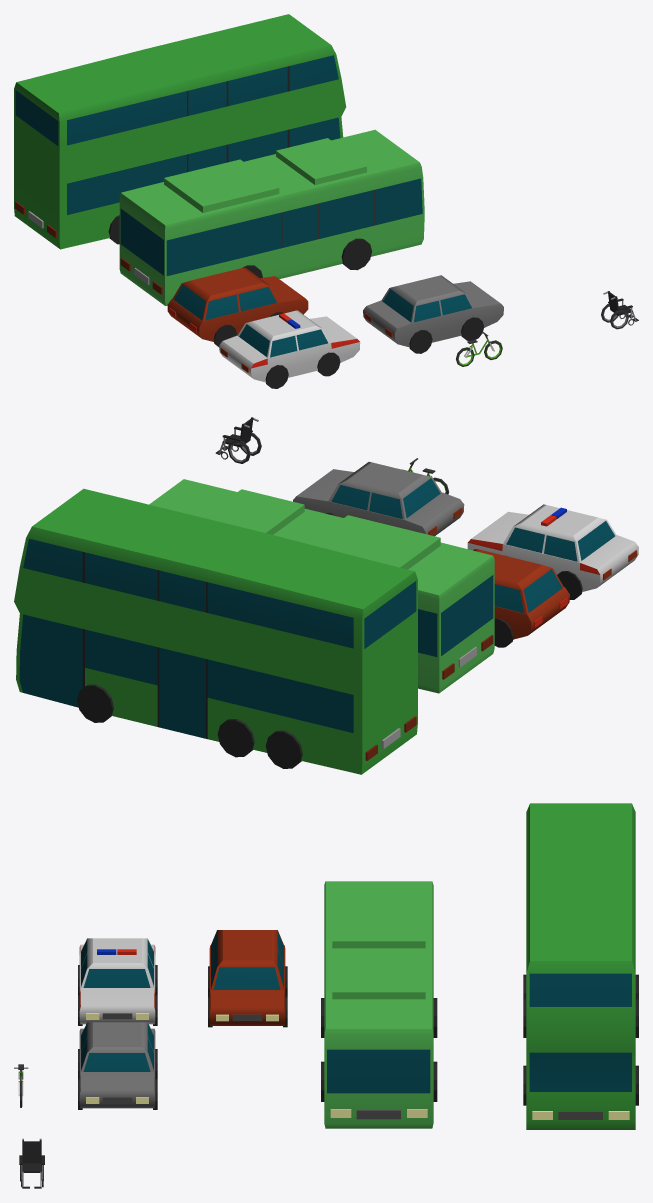
Rendered from BUS.fbx.
3 views of the same model, one above another, from view 1: azimuth 30°, elevation 25°; view 2: azimuth 150°, elevation 25°; view 3: azimuth 270°, elevation 25° (orthographic). The views are drawn at different scales.
Visible parts, largest first — view 1: pCube6, pCube1, pCube3, pCube42, pCube9, pCube37, pCube10, pCube33, pCube43, pCube2, pCylinder1; view 2: pCube6, pCube1, pCube10, pCube37, pCube3, pCube33, pCube9, pCube42, pCube2, pCube43, pCylinder9, pCylinder11 (+1 smaller); view 3: pCube6, pCube1, pCube3, pCube42, pCube10, pCube2, pCube33, pCube9, pCube37, pCube43.
Part boxes in pixels (bbox=[...]): pCube6: bbox=[14, 14, 346, 249]; pCube1: bbox=[119, 129, 424, 305]; pCube3: bbox=[164, 159, 279, 212]; pCube42: bbox=[172, 267, 279, 321]; pCube9: bbox=[363, 281, 503, 347]; pCube37: bbox=[219, 316, 360, 382]; pCube10: bbox=[381, 275, 474, 322]; pCube33: bbox=[237, 310, 330, 357]; pCube43: bbox=[167, 276, 308, 342]; pCube2: bbox=[276, 138, 366, 184]; pCylinder1: bbox=[341, 238, 371, 270]; pCube6: bbox=[14, 488, 417, 774]; pCube1: bbox=[149, 479, 494, 693]; pCube10: bbox=[328, 462, 441, 519]; pCube37: bbox=[467, 511, 638, 591]; pCube3: bbox=[308, 515, 440, 569]; pCube33: bbox=[503, 504, 616, 562]; pCube9: bbox=[293, 469, 464, 536]; pCube42: bbox=[473, 549, 563, 614]; pCube2: bbox=[203, 489, 304, 534]; pCube43: bbox=[494, 587, 569, 639]; pCylinder9: bbox=[77, 684, 113, 722]; pCylinder11: bbox=[217, 719, 254, 757]; pCube6: bbox=[526, 803, 635, 1129]; pCube1: bbox=[324, 881, 433, 1128]; pCube3: bbox=[332, 896, 425, 948]; pCube42: bbox=[211, 930, 283, 989]; pCube10: bbox=[81, 1022, 153, 1071]; pCube2: bbox=[332, 962, 425, 999]; pCube33: bbox=[81, 938, 153, 987]; pCube9: bbox=[79, 1028, 155, 1108]; pCube37: bbox=[79, 944, 155, 1024]; pCube43: bbox=[209, 945, 285, 1025].
Size of the model in its own units: 14.21 by 5.37 by 17.35.
